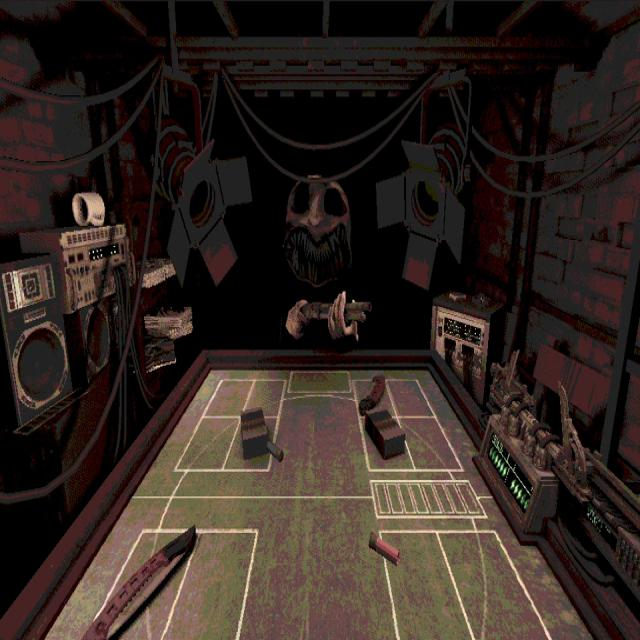ally: (34, 491, 600, 639)
cigar: (365, 412, 405, 459), (239, 407, 271, 458)
doubledamage: (81, 526, 195, 639), (359, 375, 385, 415)
emptyspace: (441, 530, 553, 639), (381, 529, 477, 639), (165, 533, 257, 636), (398, 416, 464, 469), (178, 417, 239, 471), (204, 378, 255, 417), (388, 380, 437, 417), (244, 380, 284, 414)
enemyspace: (132, 364, 488, 489)
